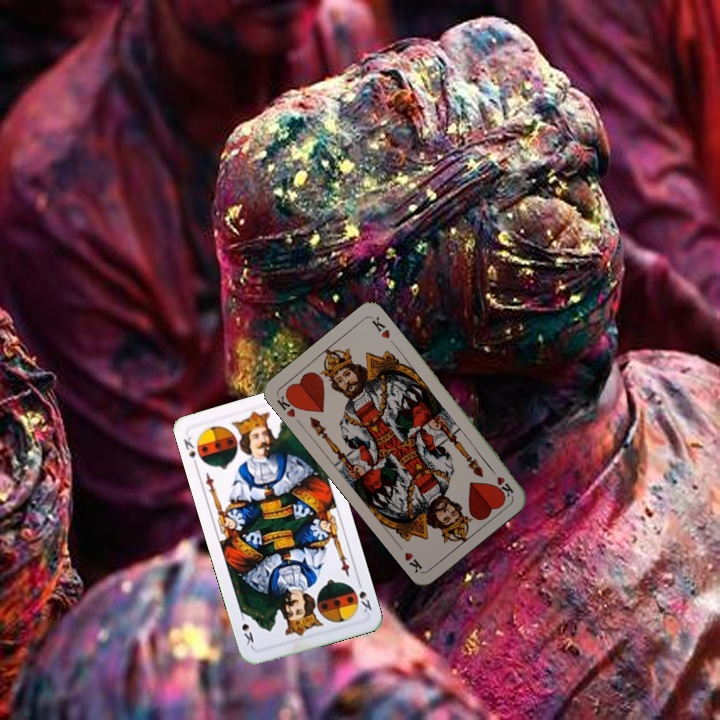HK: (485, 463, 516, 499), (273, 388, 302, 420)
SK: (354, 576, 374, 615), (179, 433, 200, 470)
